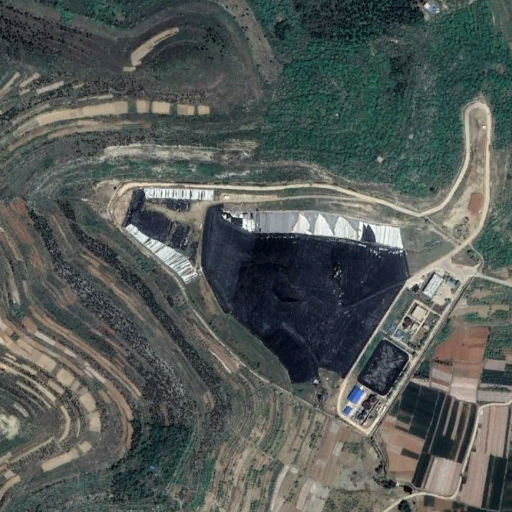lf: (106, 182, 402, 387)
